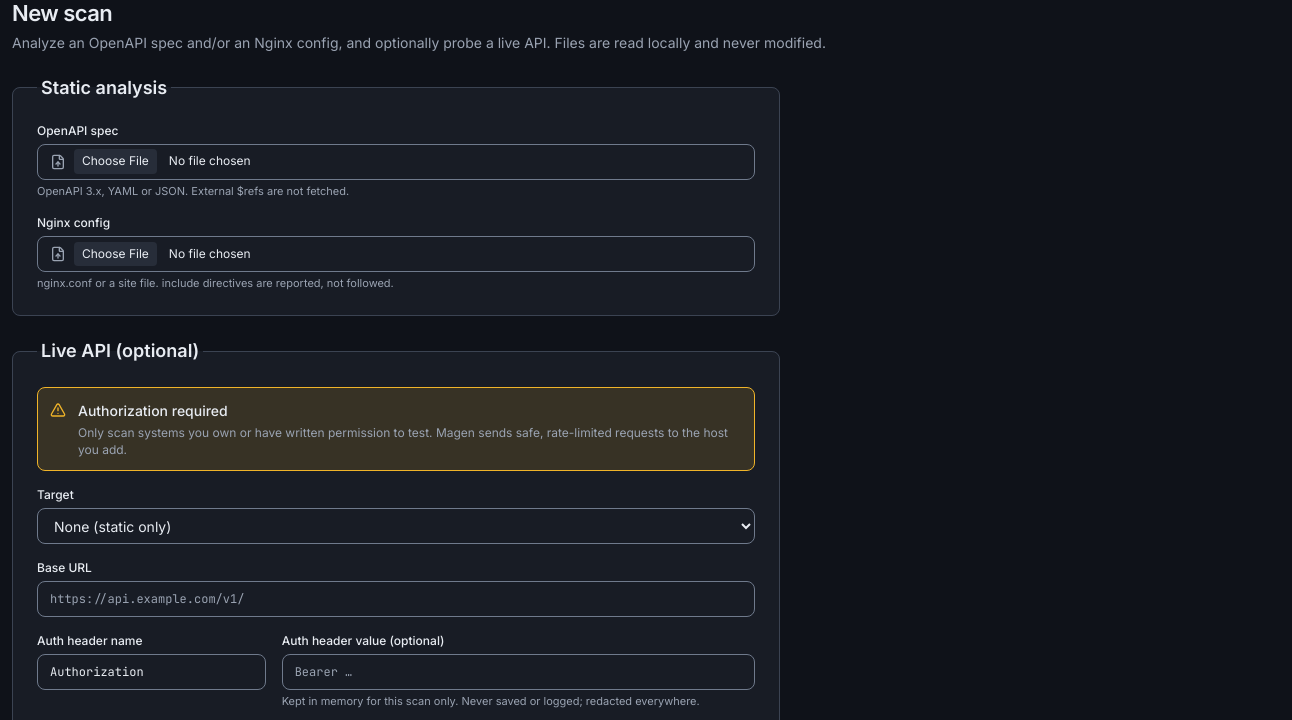
Test case: Runtime scan flow › starts, shows live progress with Stop, then shows runtime findings and the probe log
This screenshot has width=1292, height=720.
Later steps or results of the test are not shown.
Select "127.0.0.1 (local lab)" in the dropdown labelled "Target" at (396, 526), box 37,508 -> 755,544
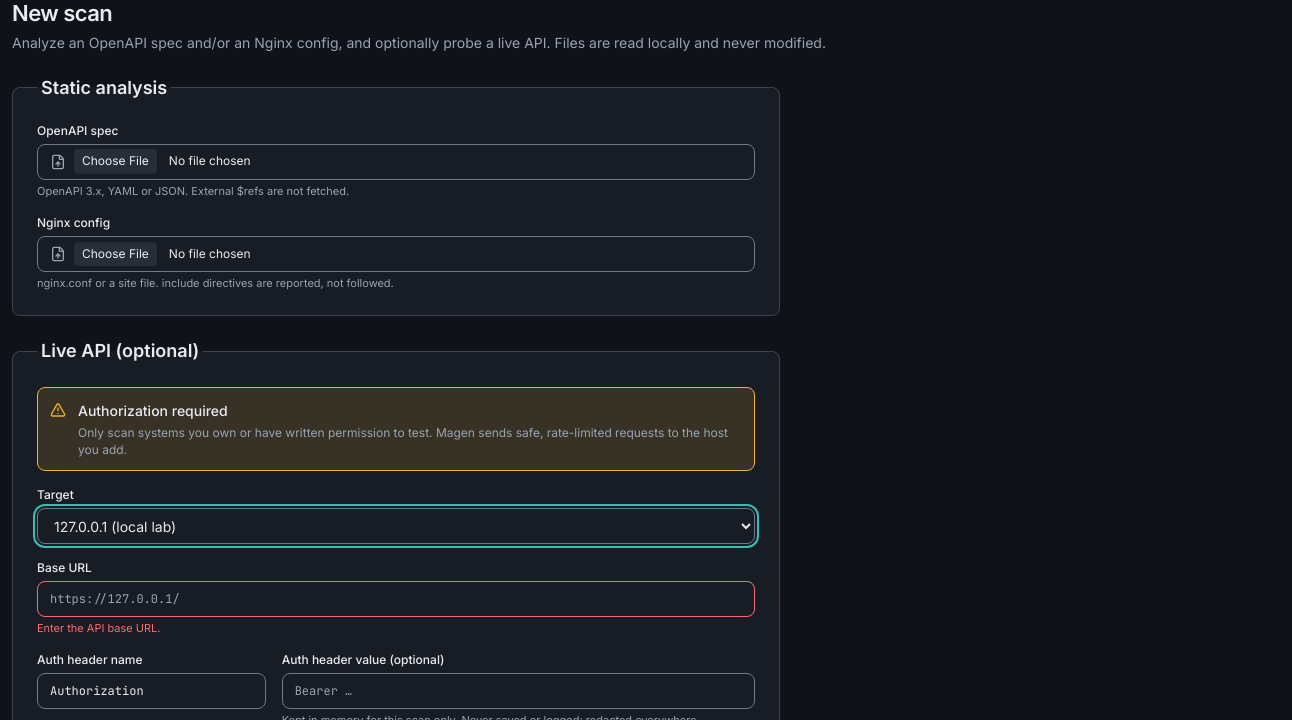
Type "http://127.0.0.1:5000/" into the field labelled "Base URL" at (396, 599), box 37,581 -> 755,617
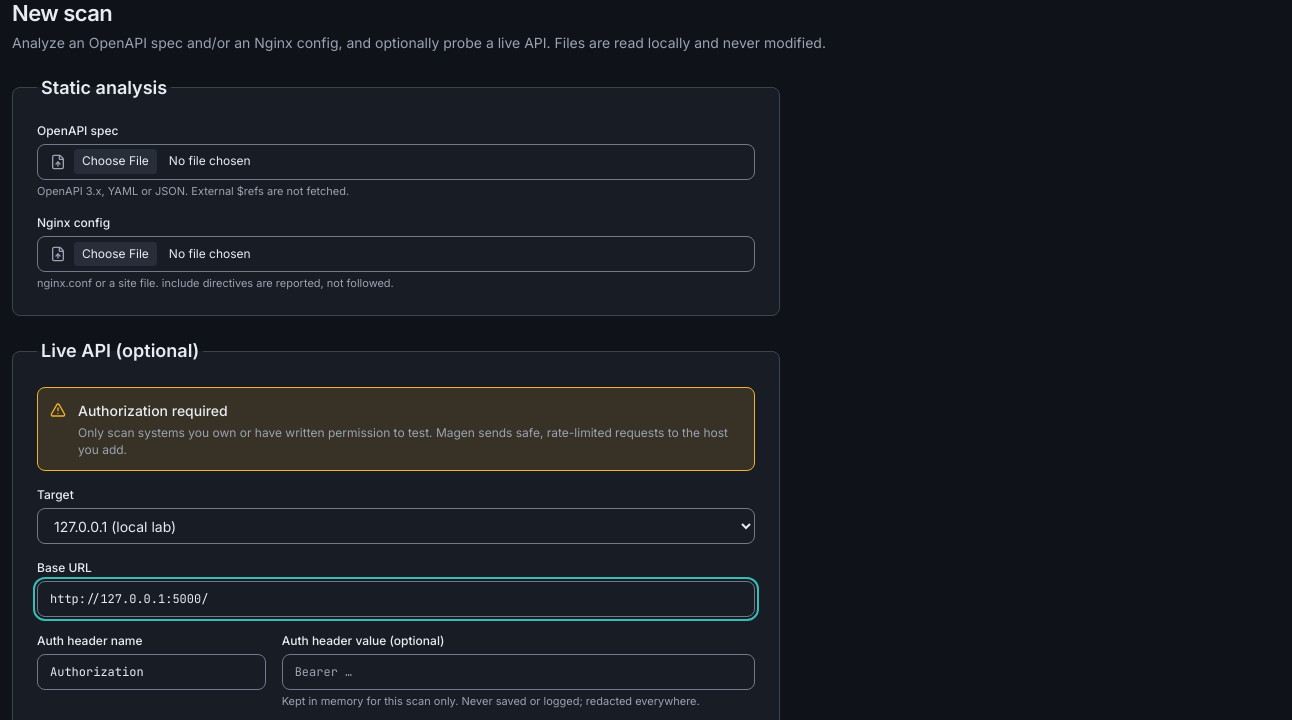
Type "Bearer xyz" into the password field labelled "Auth header value (optional)" at (518, 672), box 282,654 -> 755,690
(page scrolled)
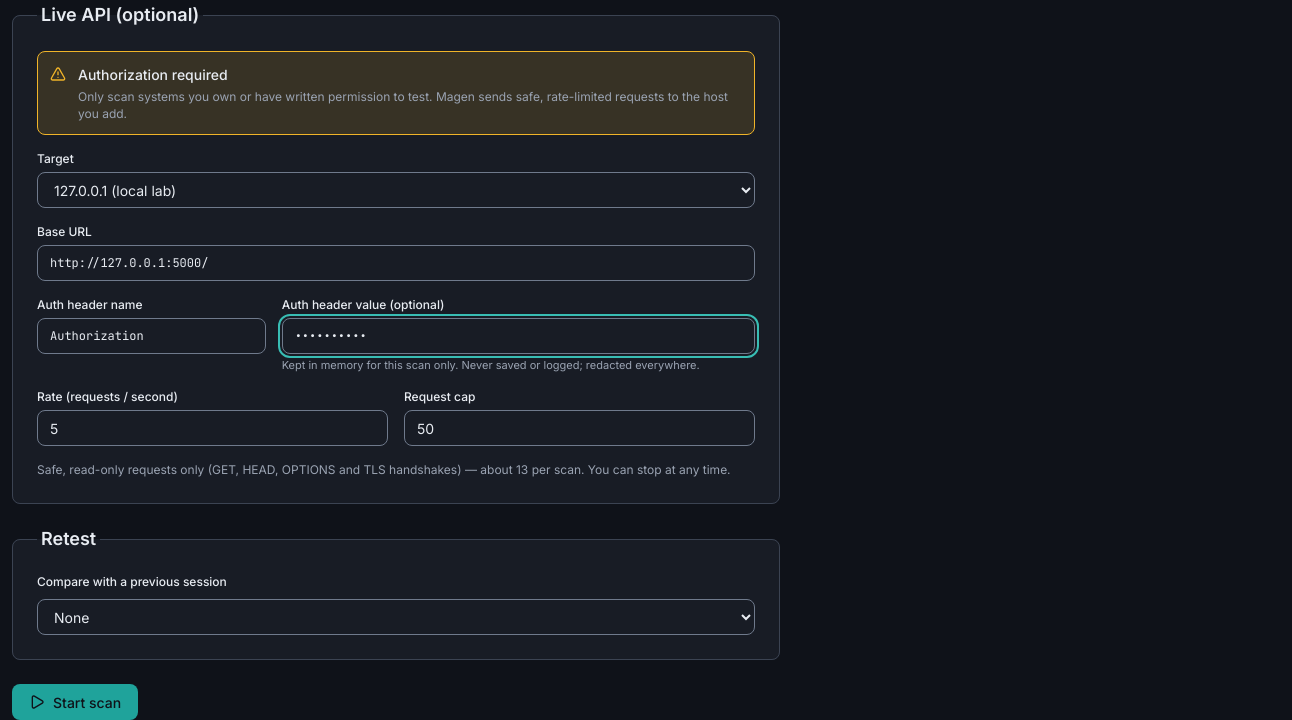
Click the button "Start scan" at (75, 702), box 12,684 -> 138,719
(page scrolled)
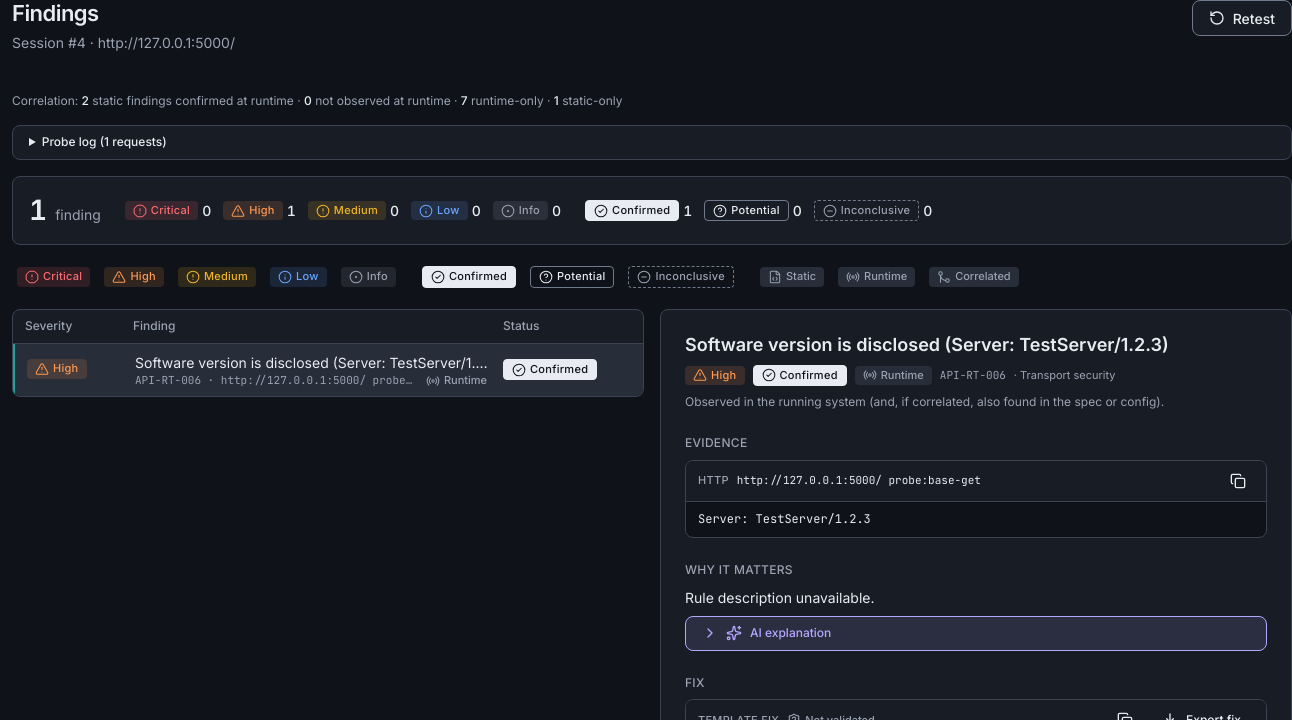
Expected: the text "Software version is disclosed (Server: TestServer/1.2.3)" is shown, 135,352 -> 491,373
Expected: the heading "Probe log (1 requests)" is shown, 42,134 -> 167,149
